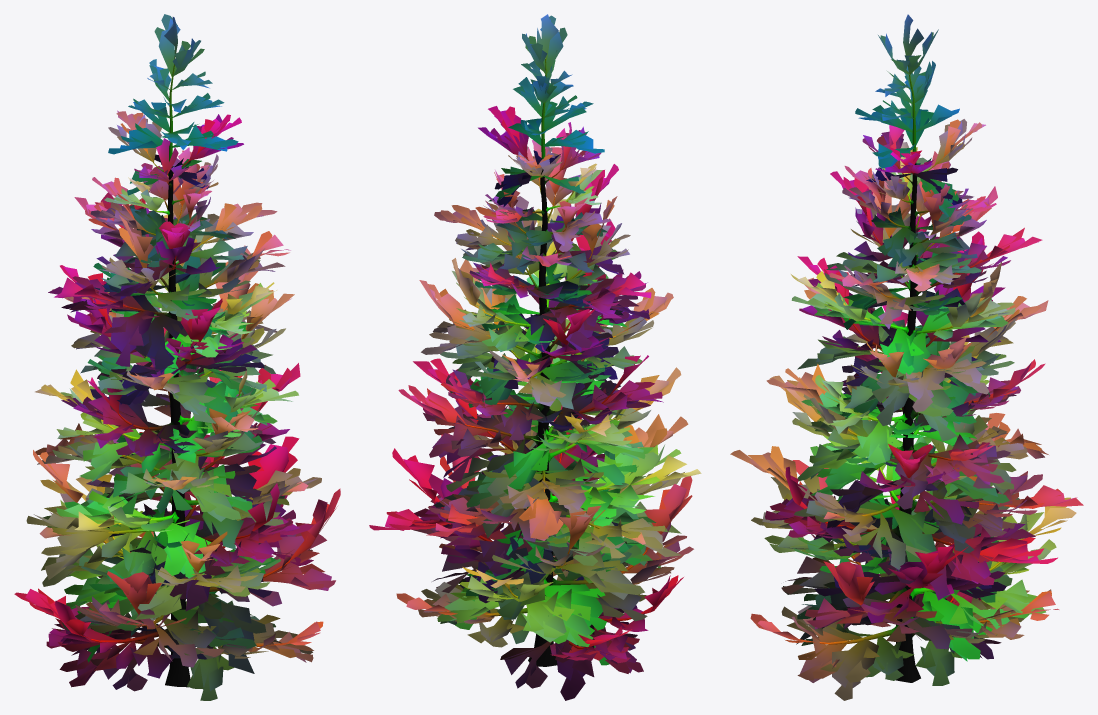
Rendered from SM_SilverFir_M_01.fbx.
The picture shows the model from 3 angles, left to right: view 1: azimuth 30°, elevation 25°; view 2: azimuth 150°, elevation 25°; view 3: azimuth 270°, elevation 25°; orthographic projection. The views are drawn at different scales.
Visible parts, largest first — view 1: SM_SilverFir_M_01_LOD0; view 2: SM_SilverFir_M_01_LOD0; view 3: SM_SilverFir_M_01_LOD0.
Boxes of the visible parts, left/top/right/bottom form: SM_SilverFir_M_01_LOD0: left=14, top=14, right=340, bottom=700; SM_SilverFir_M_01_LOD0: left=369, top=14, right=701, bottom=700; SM_SilverFir_M_01_LOD0: left=730, top=14, right=1083, bottom=700.
Bounding box in the file's own units: 343 × 381 × 785.
